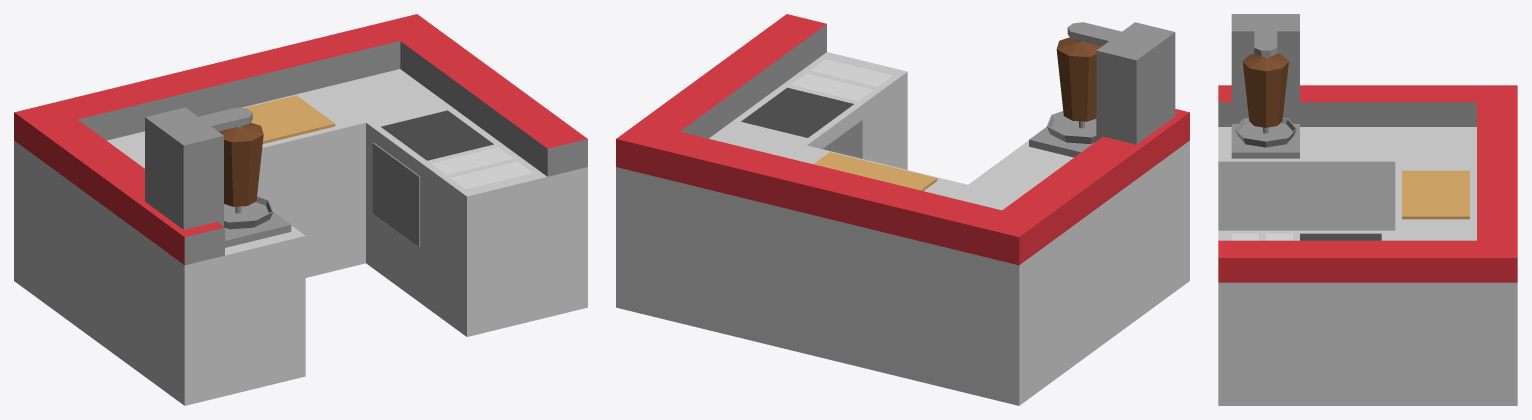
The model's file is Kitchen.fbx.
3 views of the same model, side by side, from view 1: azimuth 30°, elevation 25°; view 2: azimuth 150°, elevation 25°; view 3: azimuth 270°, elevation 25° (orthographic). The views are drawn at different scales.
Parts seen in each view (by area): view 1: Counter, Spit Heater, Oven, Griddle, Kebab Spit, Assembly Board, Spit Dish, Deep Fryer.001, Deep Fryer; view 2: Counter, Spit Heater, Griddle, Kebab Spit, Assembly Board, Spit Dish, Deep Fryer.001, Deep Fryer, Oven; view 3: Counter, Spit Heater, Assembly Board, Kebab Spit, Spit Dish, Griddle.
Boxes of the visible parts, left/top/right/bottom form: Counter: left=14, top=14, right=587, bottom=405; Spit Heater: left=145, top=107, right=291, bottom=247; Oven: left=372, top=142, right=420, bottom=246; Griddle: left=381, top=110, right=493, bottom=160; Kebab Spit: left=218, top=122, right=263, bottom=213; Assembly Board: left=244, top=95, right=335, bottom=143; Spit Dish: left=224, top=196, right=273, bottom=229; Deep Fryer.001: left=451, top=161, right=532, bottom=188; Deep Fryer: left=431, top=147, right=512, bottom=174; Counter: left=616, top=14, right=1189, bottom=405; Spit Heater: left=1029, top=22, right=1175, bottom=157; Griddle: left=741, top=87, right=853, bottom=137; Kebab Spit: left=1056, top=37, right=1101, bottom=128; Assembly Board: left=813, top=152, right=937, bottom=190; Spit Dish: left=1047, top=111, right=1096, bottom=143; Deep Fryer.001: left=811, top=59, right=892, bottom=86; Deep Fryer: left=791, top=73, right=873, bottom=100; Oven: left=821, top=120, right=862, bottom=158; Counter: left=1218, top=85, right=1517, bottom=405; Spit Heater: left=1231, top=14, right=1299, bottom=158; Assembly Board: left=1402, top=170, right=1469, bottom=219; Kebab Spit: left=1242, top=54, right=1288, bottom=133; Spit Dish: left=1234, top=118, right=1296, bottom=147; Griddle: left=1300, top=233, right=1381, bottom=240.
Size of what is drawn, in the model's own units: 300 by 180 by 220.
